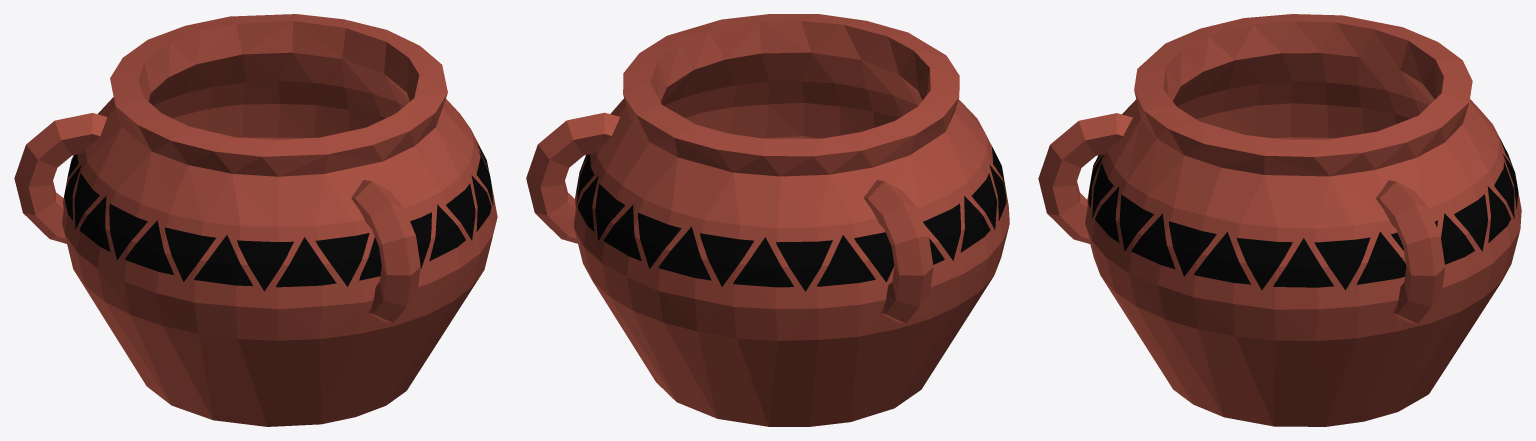
File: Pottery 19_2.fbx
3 views of the same model, side by side, from view 1: azimuth 30°, elevation 25°; view 2: azimuth 150°, elevation 25°; view 3: azimuth 270°, elevation 25° (orthographic).
Parts seen in each view (by area): view 1: Pottery 19_2; view 2: Pottery 19_2; view 3: Pottery 19_2.
Part boxes in pixels (bbox=[...]): Pottery 19_2: bbox=[14, 14, 497, 426]; Pottery 19_2: bbox=[526, 14, 1009, 426]; Pottery 19_2: bbox=[1038, 14, 1521, 426].
Size of the model in its own units: 76.29 by 52.88 by 80.32.
